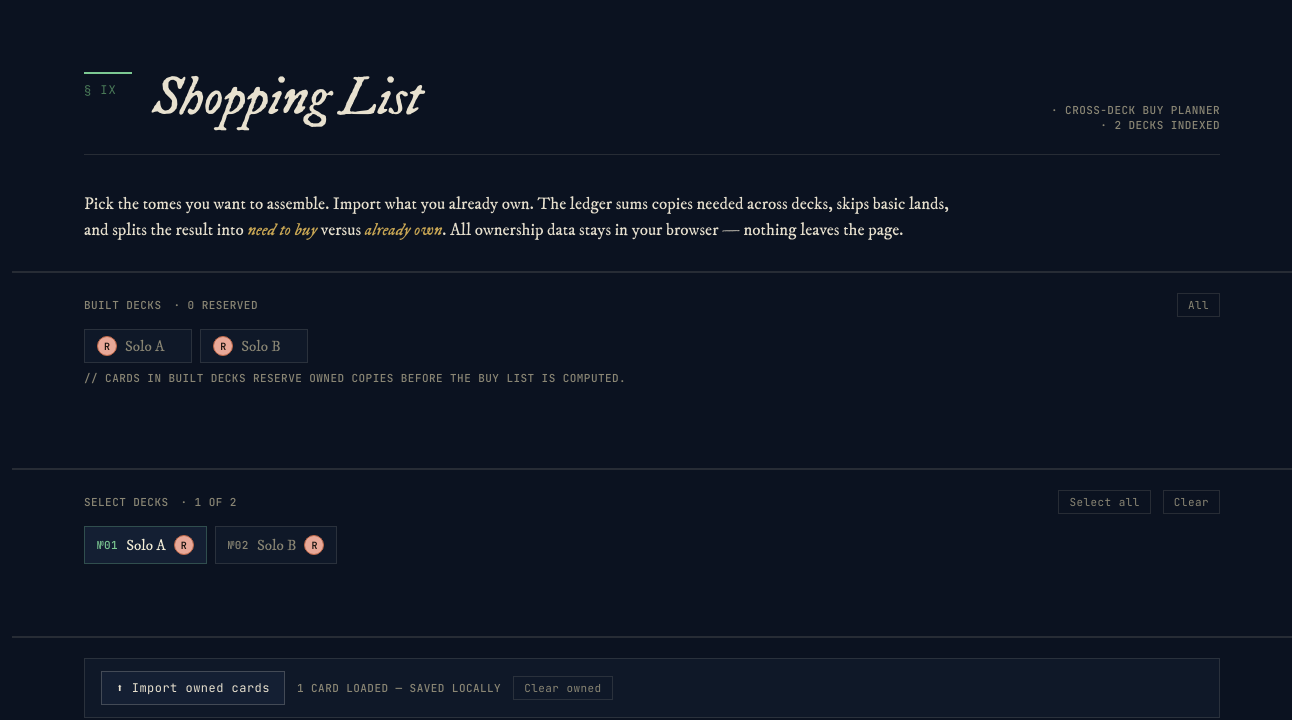
Shopping organism › the count of cards in the Need to buy and Already own headers (DEC-1142) › reads `2 unique · 3 cards` to buy and `1 unique · 1 card` owned when the sections hold different counts
Click the button "Select all". click: click(1105, 502)
box: 1058,490 -> 1151,514
(page scrolled)
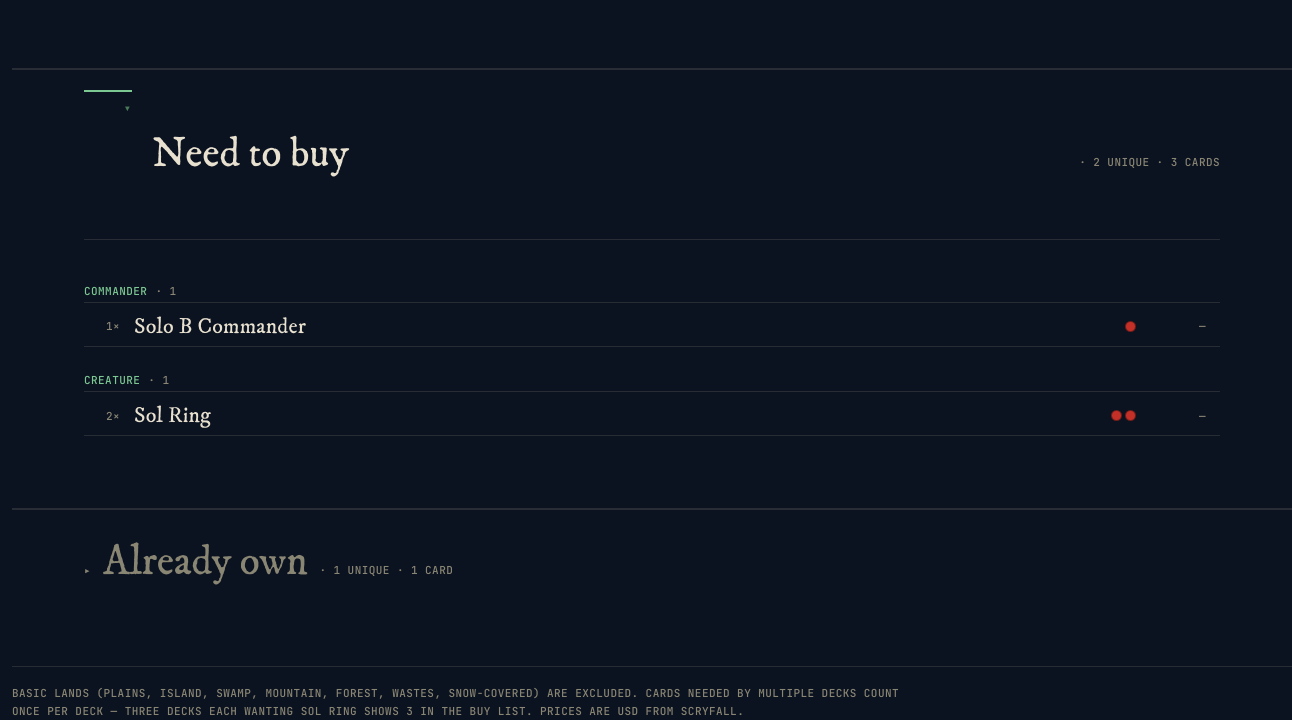
Expected: the text "· 1 unique · 1 card" is shown, 319,563 -> 453,577
Now the text "· 2 unique · 3 cards" is shown, box 1079,156 -> 1220,171
